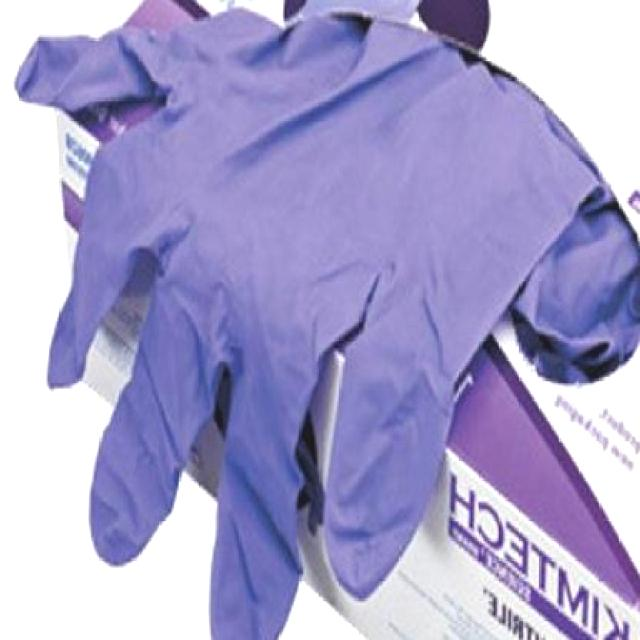glove: (11, 5, 592, 638)
